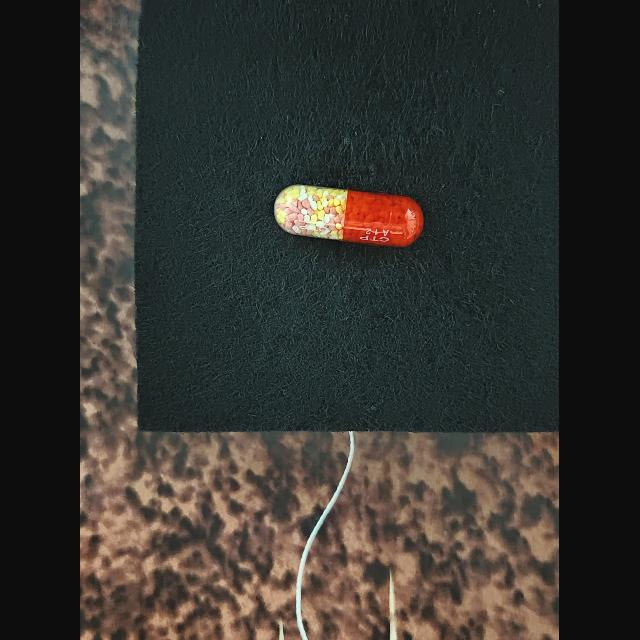Intact Capsule: (275, 185, 424, 247)
